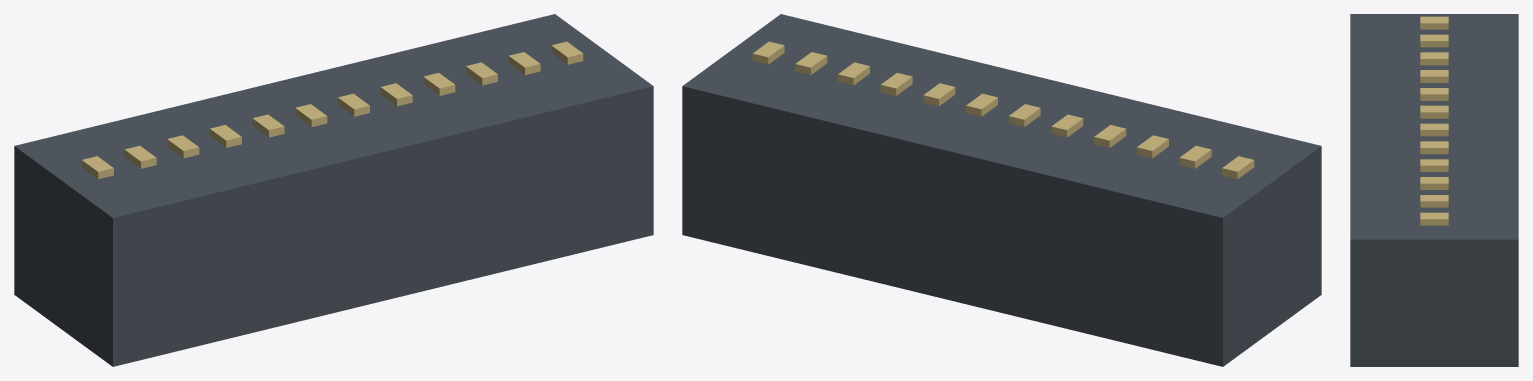
The model's file is 179_L112_PortFixture_3.glb.
3 renders of one model, left to right at view 1: azimuth 30°, elevation 25°; view 2: azimuth 150°, elevation 25°; view 3: azimuth 270°, elevation 25°, orthographic. The views are drawn at different scales.
Parts seen in each view (by area): view 1: part000__PSMAT__Connector_Polymer, part003__PSMAT__Gold_ENIG, part005__PSMAT__Gold_ENIG, part002__PSMAT__Gold_ENIG, part004__PSMAT__Gold_ENIG, part006__PSMAT__Gold_ENIG, part008__PSMAT__Gold_ENIG, part012__PSMAT__Gold_ENIG, part001__PSMAT__Gold_ENIG, part009__PSMAT__Gold_ENIG, part011__PSMAT__Gold_ENIG, part007__PSMAT__Gold_ENIG (+1 smaller); view 2: part000__PSMAT__Connector_Polymer, part003__PSMAT__Gold_ENIG, part005__PSMAT__Gold_ENIG, part002__PSMAT__Gold_ENIG, part004__PSMAT__Gold_ENIG, part006__PSMAT__Gold_ENIG, part008__PSMAT__Gold_ENIG, part012__PSMAT__Gold_ENIG, part001__PSMAT__Gold_ENIG, part009__PSMAT__Gold_ENIG, part011__PSMAT__Gold_ENIG, part007__PSMAT__Gold_ENIG (+1 smaller); view 3: part000__PSMAT__Connector_Polymer, part001__PSMAT__Gold_ENIG, part002__PSMAT__Gold_ENIG, part003__PSMAT__Gold_ENIG, part006__PSMAT__Gold_ENIG, part007__PSMAT__Gold_ENIG, part008__PSMAT__Gold_ENIG, part012__PSMAT__Gold_ENIG, part004__PSMAT__Gold_ENIG, part005__PSMAT__Gold_ENIG, part009__PSMAT__Gold_ENIG, part010__PSMAT__Gold_ENIG (+1 smaller).
Boxes of the visible parts, x1=… form: part000__PSMAT__Connector_Polymer: x1=14, y1=14, x2=653, y2=366; part003__PSMAT__Gold_ENIG: x1=167, y1=135, x2=199, y2=158; part005__PSMAT__Gold_ENIG: x1=252, y1=114, x2=284, y2=137; part002__PSMAT__Gold_ENIG: x1=124, y1=145, x2=156, y2=168; part004__PSMAT__Gold_ENIG: x1=209, y1=125, x2=241, y2=147; part006__PSMAT__Gold_ENIG: x1=295, y1=104, x2=327, y2=127; part008__PSMAT__Gold_ENIG: x1=380, y1=83, x2=412, y2=106; part012__PSMAT__Gold_ENIG: x1=551, y1=41, x2=583, y2=64; part001__PSMAT__Gold_ENIG: x1=81, y1=156, x2=113, y2=179; part009__PSMAT__Gold_ENIG: x1=423, y1=73, x2=455, y2=95; part011__PSMAT__Gold_ENIG: x1=508, y1=52, x2=540, y2=74; part007__PSMAT__Gold_ENIG: x1=338, y1=93, x2=369, y2=116; part000__PSMAT__Connector_Polymer: x1=682, y1=14, x2=1321, y2=366; part003__PSMAT__Gold_ENIG: x1=1136, y1=135, x2=1168, y2=158; part005__PSMAT__Gold_ENIG: x1=1051, y1=114, x2=1083, y2=137; part002__PSMAT__Gold_ENIG: x1=1179, y1=145, x2=1211, y2=168; part004__PSMAT__Gold_ENIG: x1=1094, y1=125, x2=1126, y2=147; part006__PSMAT__Gold_ENIG: x1=1008, y1=104, x2=1040, y2=127; part008__PSMAT__Gold_ENIG: x1=923, y1=83, x2=955, y2=106; part012__PSMAT__Gold_ENIG: x1=752, y1=41, x2=784, y2=64; part001__PSMAT__Gold_ENIG: x1=1222, y1=156, x2=1254, y2=179; part009__PSMAT__Gold_ENIG: x1=880, y1=73, x2=912, y2=95; part011__PSMAT__Gold_ENIG: x1=795, y1=52, x2=827, y2=74; part007__PSMAT__Gold_ENIG: x1=966, y1=93, x2=997, y2=116; part000__PSMAT__Connector_Polymer: x1=1350, y1=14, x2=1518, y2=366; part001__PSMAT__Gold_ENIG: x1=1420, y1=16, x2=1448, y2=29; part002__PSMAT__Gold_ENIG: x1=1420, y1=34, x2=1448, y2=47; part003__PSMAT__Gold_ENIG: x1=1420, y1=52, x2=1448, y2=65; part006__PSMAT__Gold_ENIG: x1=1420, y1=105, x2=1448, y2=118; part007__PSMAT__Gold_ENIG: x1=1420, y1=123, x2=1448, y2=136; part008__PSMAT__Gold_ENIG: x1=1420, y1=141, x2=1448, y2=154; part012__PSMAT__Gold_ENIG: x1=1420, y1=212, x2=1448, y2=225; part004__PSMAT__Gold_ENIG: x1=1420, y1=70, x2=1448, y2=82; part005__PSMAT__Gold_ENIG: x1=1420, y1=88, x2=1448, y2=100; part009__PSMAT__Gold_ENIG: x1=1420, y1=159, x2=1448, y2=171; part010__PSMAT__Gold_ENIG: x1=1420, y1=177, x2=1448, y2=189.
Bounding box in the file's own units: 0.019 × 0.00532 × 0.006.
